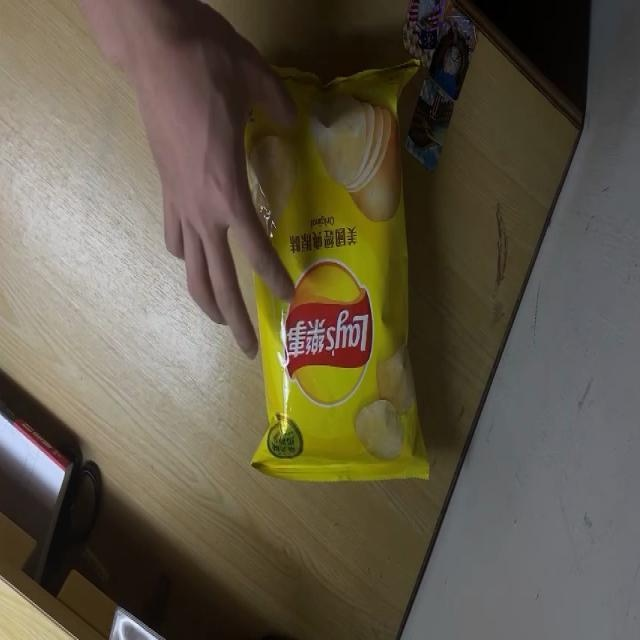Lay-s-original: (238, 51, 437, 494)
